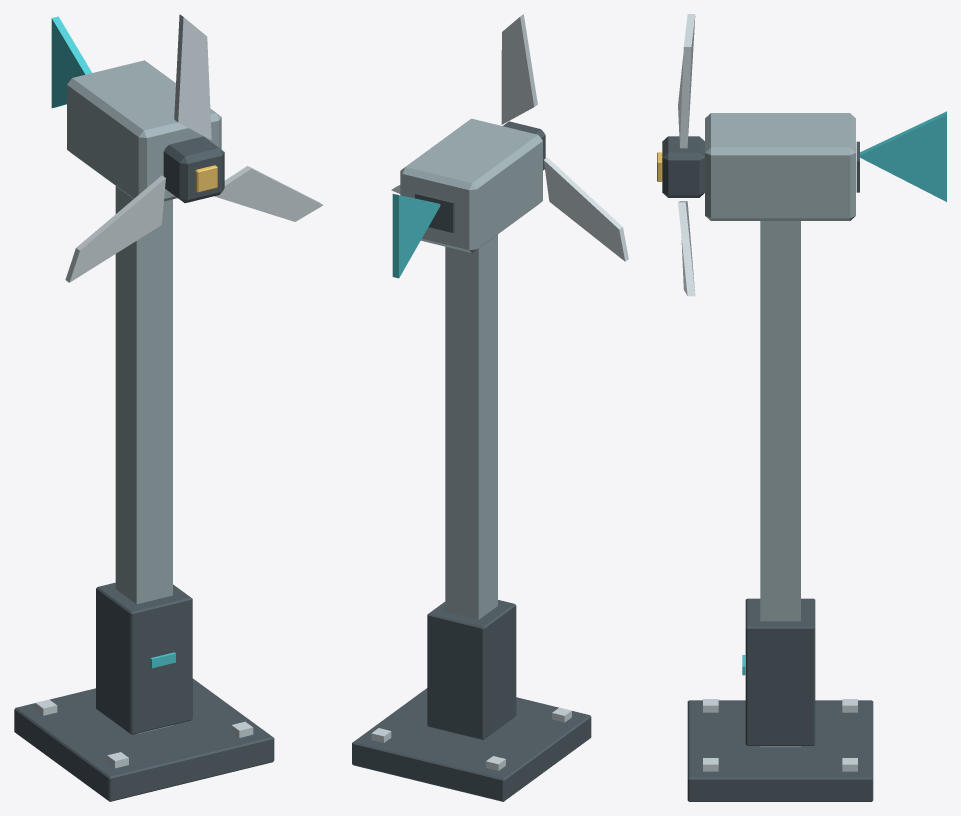
The model's file is wind-turbine.glb.
3 views of the same model, side by side, from view 1: azimuth 30°, elevation 25°; view 2: azimuth 150°, elevation 25°; view 3: azimuth 270°, elevation 25° (orthographic). The views are drawn at different scales.
Visible parts, largest first — view 1: Turbine mast.001, Ground anchor.001, Anchor bolt.004, Cyan service indicator.001; view 2: Turbine mast.001, Ground anchor.001, Anchor bolt.004, Cyan service indicator.001; view 3: Turbine mast.001, Ground anchor.001, Cyan service indicator.001, Anchor bolt.004.
Part boxes in pixels (x1,y1,x2,y2): Turbine mast.001: (67,60,221,734); Ground anchor.001: (14,136,274,801); Anchor bolt.004: (35,14,323,768); Cyan service indicator.001: (51,16,175,668); Turbine mast.001: (400,118,542,739); Ground anchor.001: (352,121,591,801); Anchor bolt.004: (371,14,628,770); Cyan service indicator.001: (392,194,440,278); Turbine mast.001: (705,113,855,747); Ground anchor.001: (662,136,873,801); Cyan service indicator.001: (742,111,946,675); Anchor bolt.004: (678,14,857,771).
Size of the model in its own units: 0.7361 by 2.12 by 0.749.
